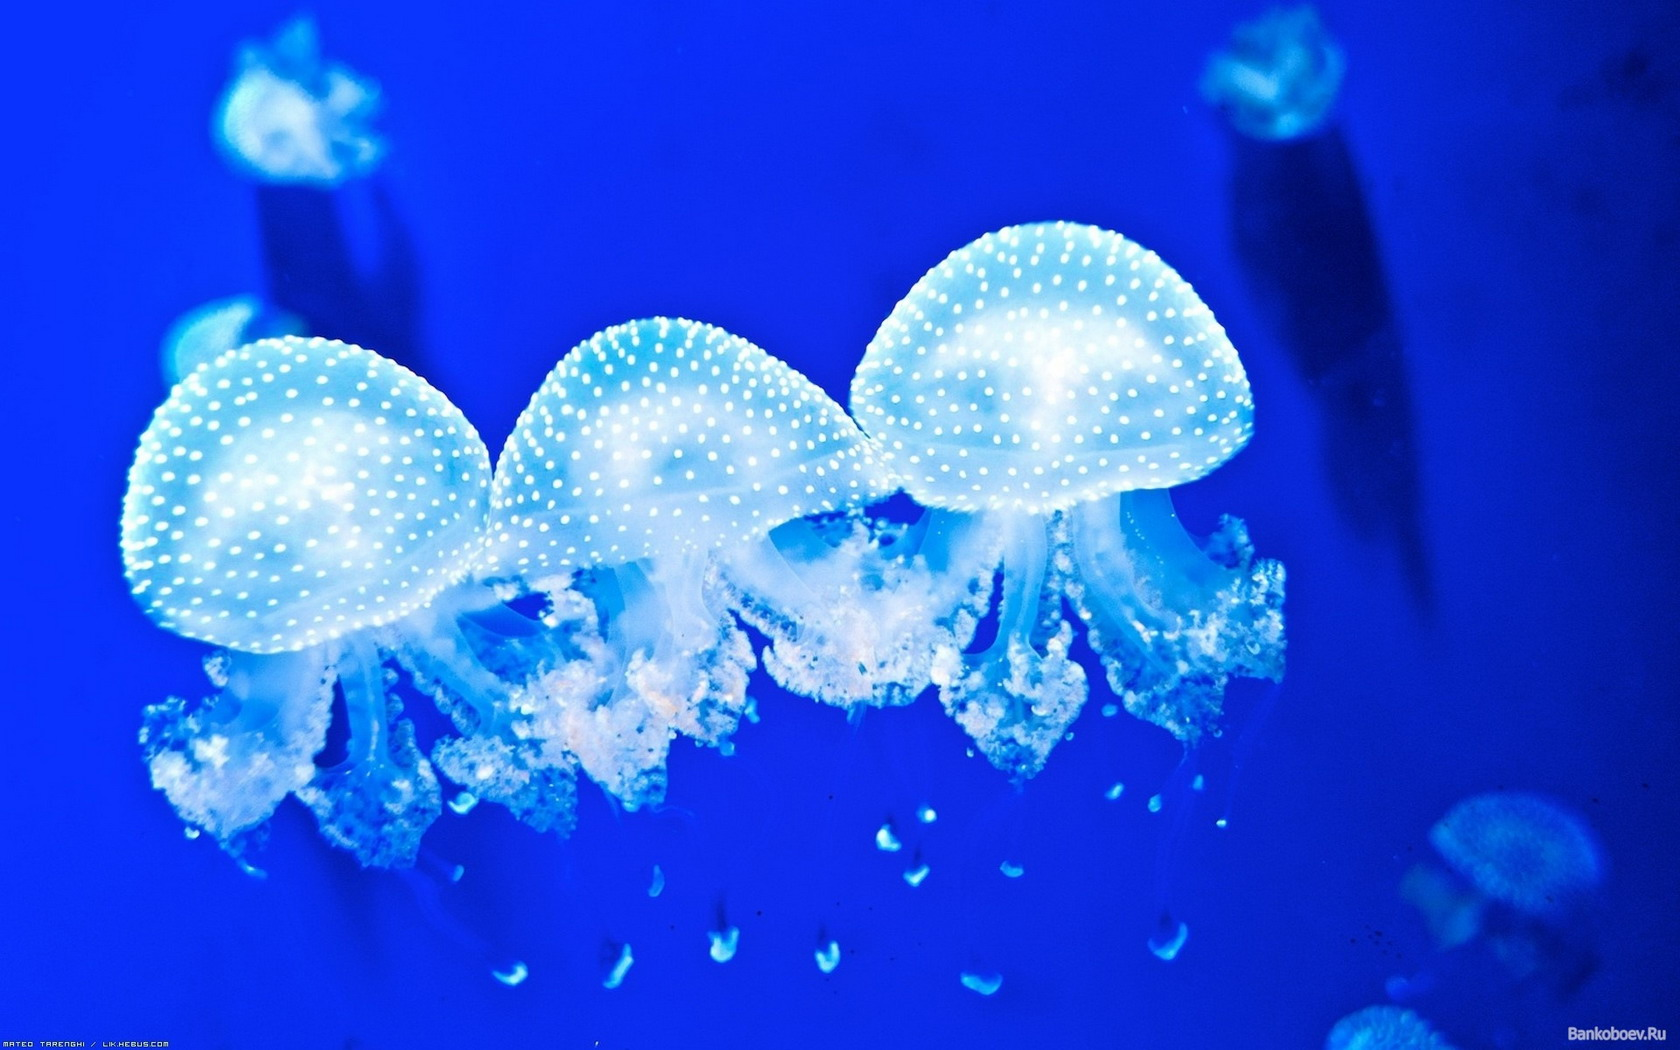jellyfish: (845, 202, 1355, 794), (108, 344, 510, 836), (490, 313, 866, 823)
